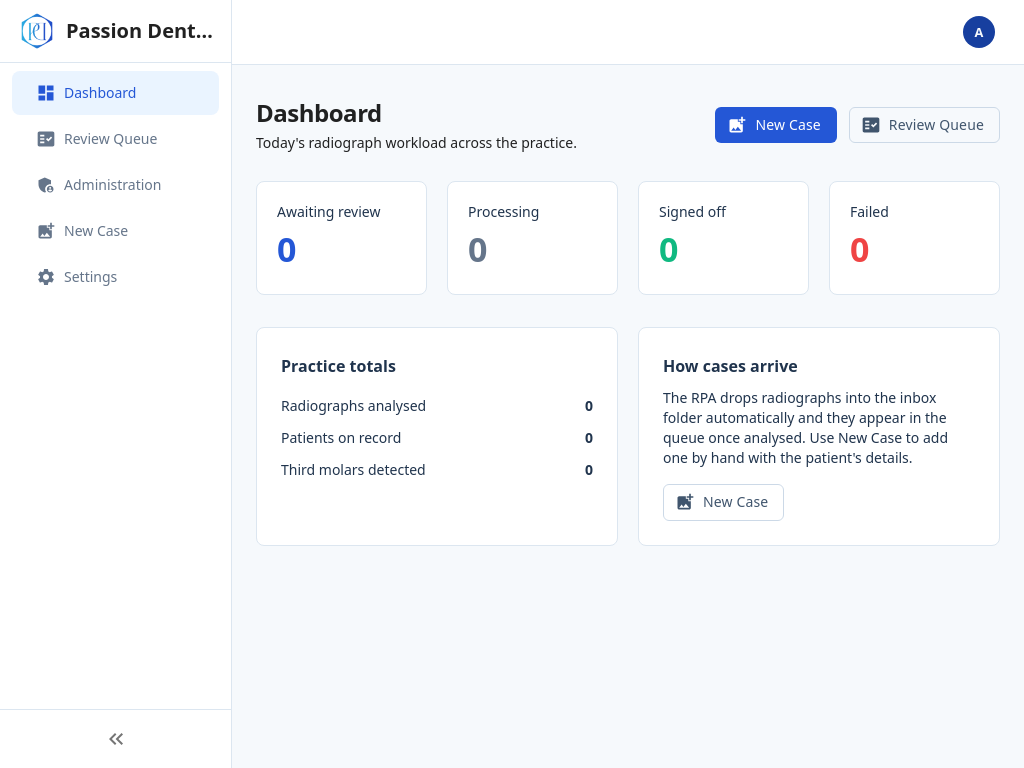
Test: nav rail order › collapses to labelled icon navigation and expands again
Click the button named "collapse navigation" at x=116, y=739, box [12, 722, 219, 756]
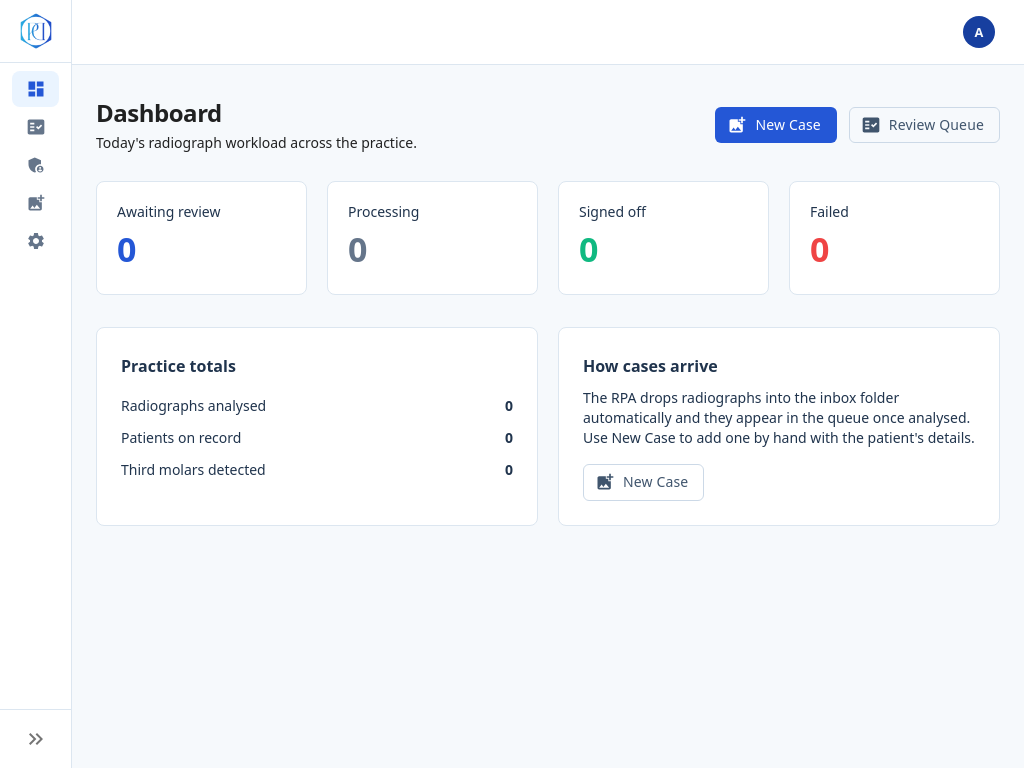
Expected: the link named "Review Queue" is shown, [26, 117, 46, 137]
Expected: the button named "expand navigation" is shown
Click the button named "expand navigation" at x=36, y=739, box [12, 722, 59, 756]
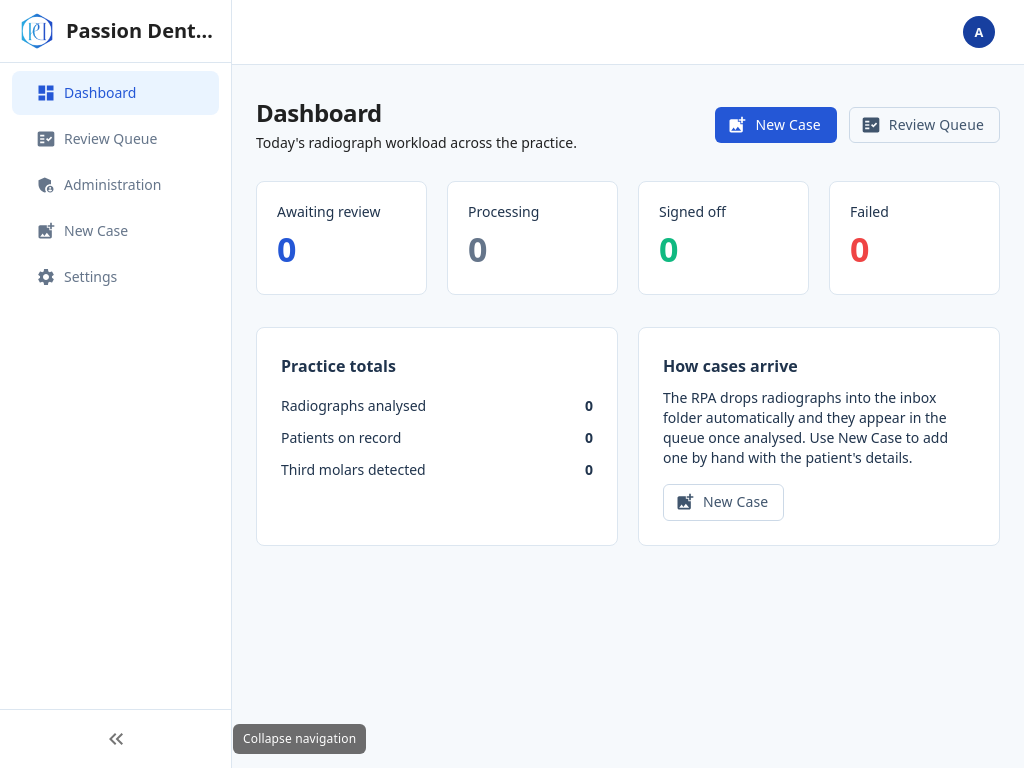
Expected: the button named "collapse navigation" is shown, [12, 722, 219, 756]
